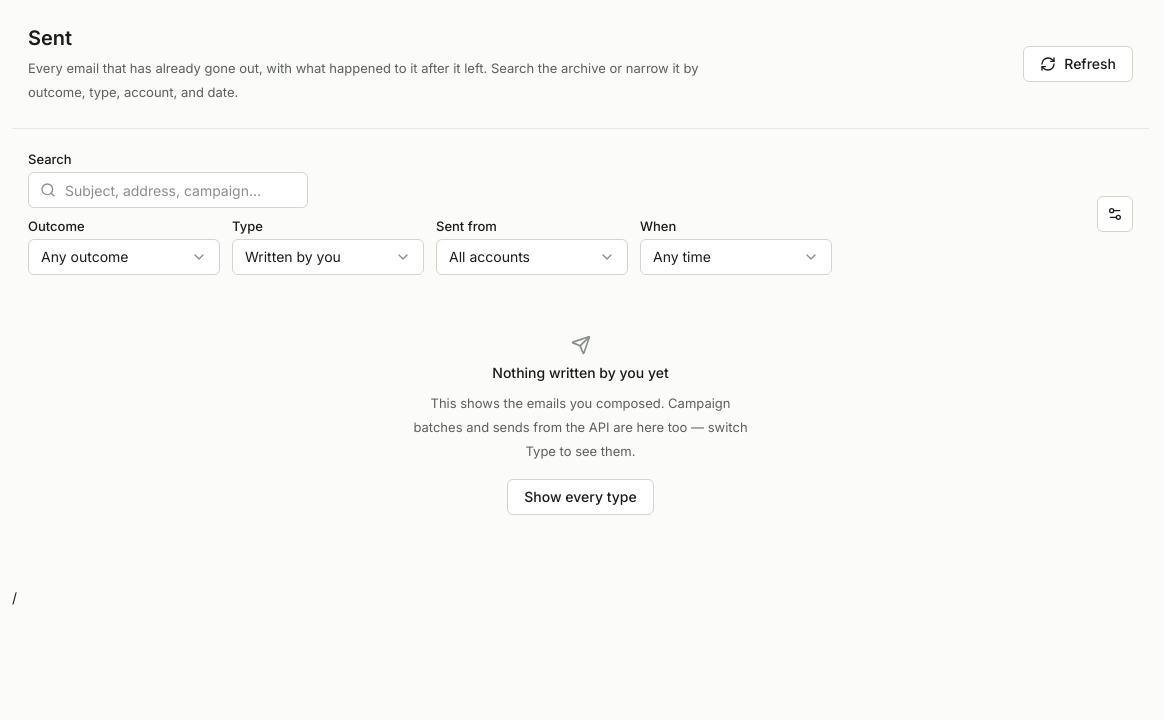
Scenario: Sent › says the archive is empty differently from a filter matching nothing
This screenshot has width=1164, height=720.
Expected: the text "Nothing written by you yet" is shown, [492,363,669,383]
Click the dropdown labelled "outcome": [124, 257] box [28,239,220,275]
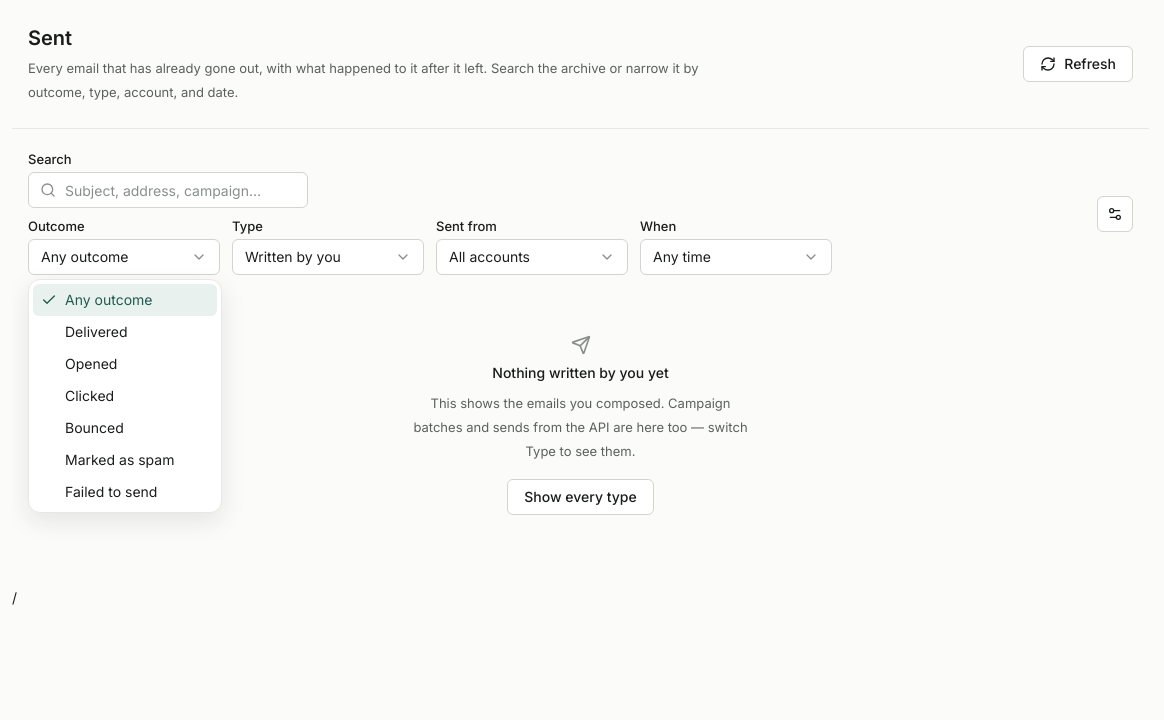
Click the option "Bounced": [94, 428] box [65,419,124,436]
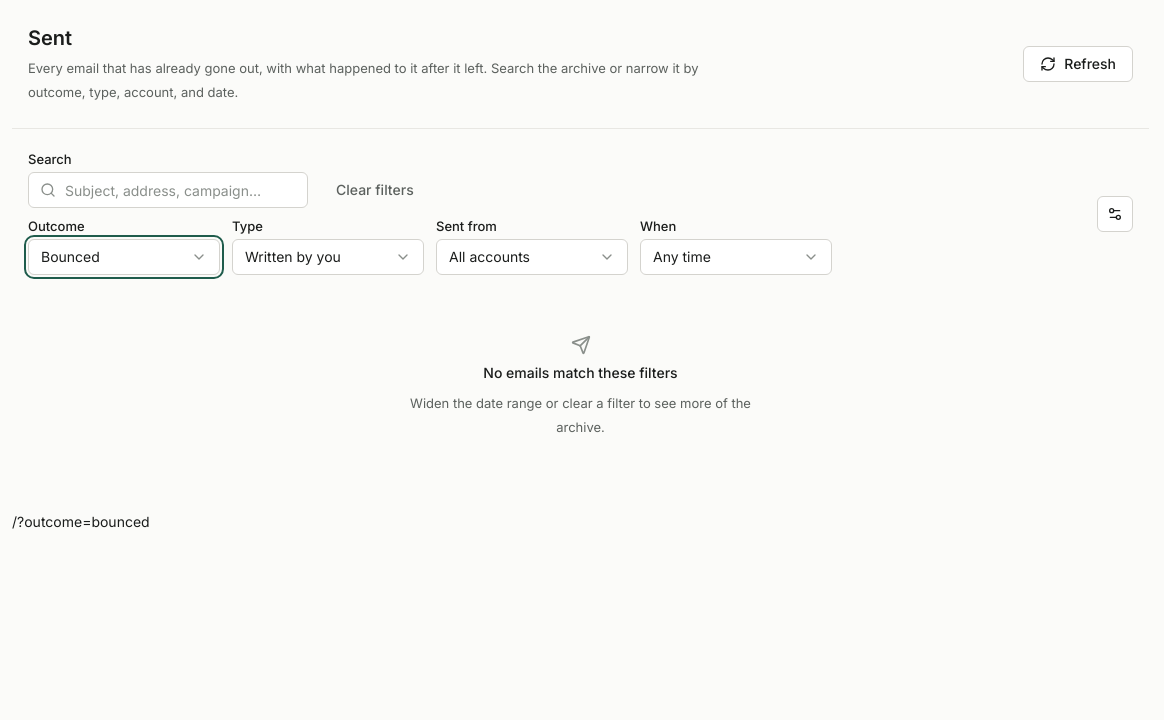
Result: the text "No emails match these filters" is shown at [483,363,678,383]
